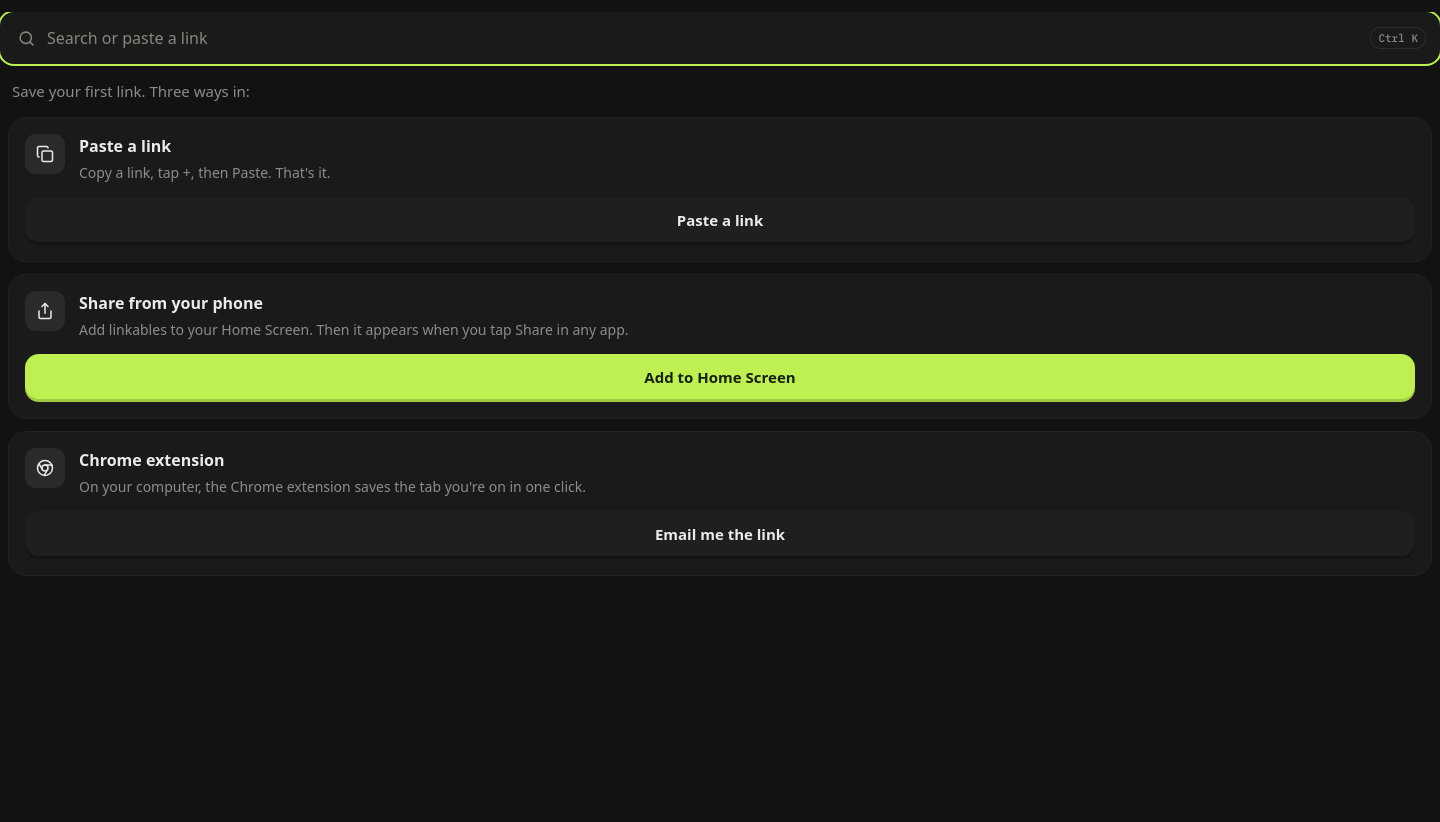
Test case: SaveBar › shows a pending row at once when Enter saves a link, and clears the field
The width and height of the screenshot is (1440, 822).
Check: the heading "Save your first link. Three ways in:" is shown, box [12,81,250,101]
In the field named "Search or paste a link": x=703, y=38 [47,12,1358,64], type "https://example.com/new"
Then press Enter
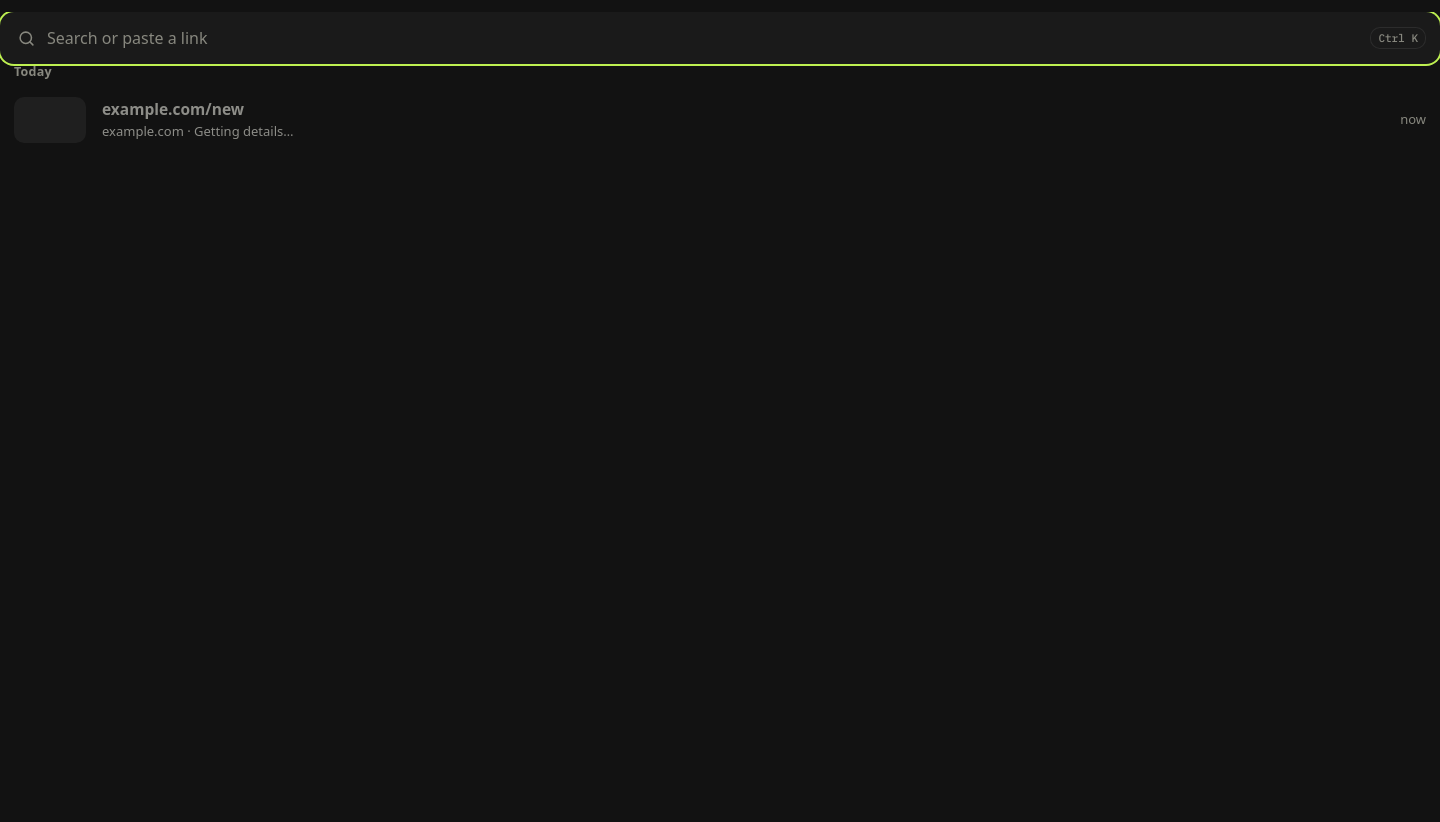
Check: the text "example.com/new" is shown, box [102,98,244,120]
Check: the text "example.com · Getting details…" is shown, box [102,122,294,140]
